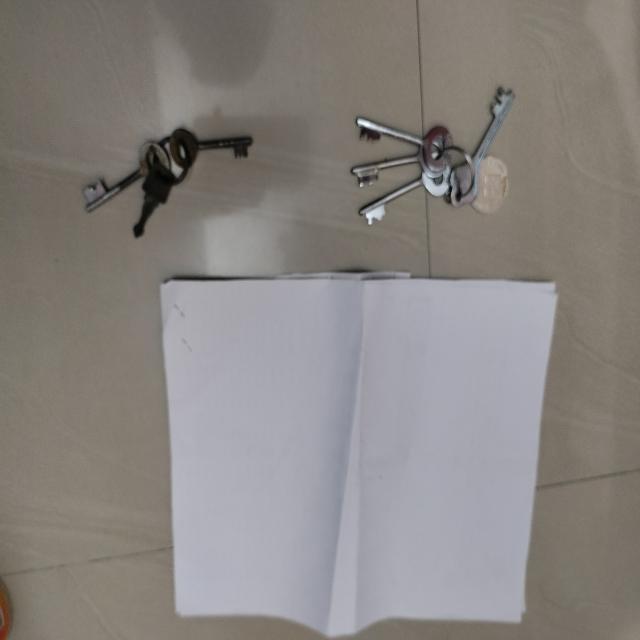metal: (83, 97, 253, 241), (351, 83, 512, 227)
paper: (160, 273, 558, 636)
